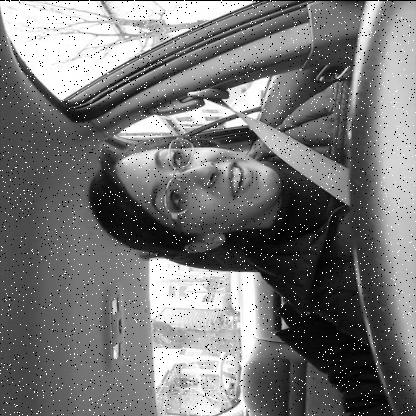seatbelt: (66, 114, 349, 268)
